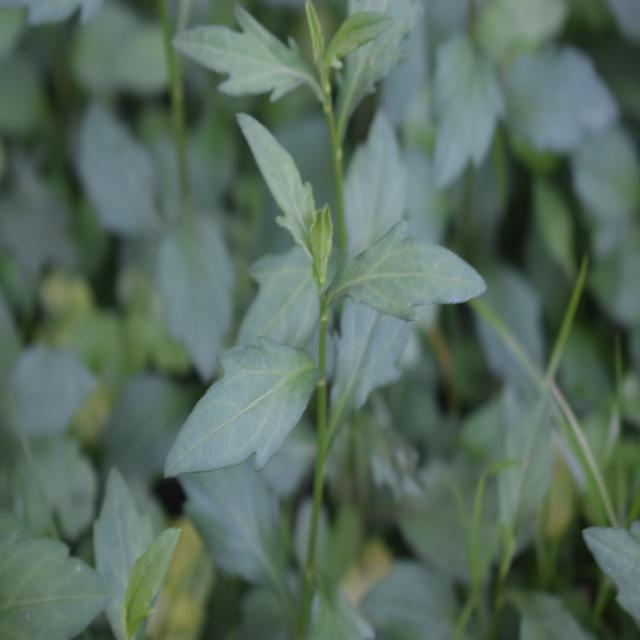Indian aster: (146, 0, 443, 548)
